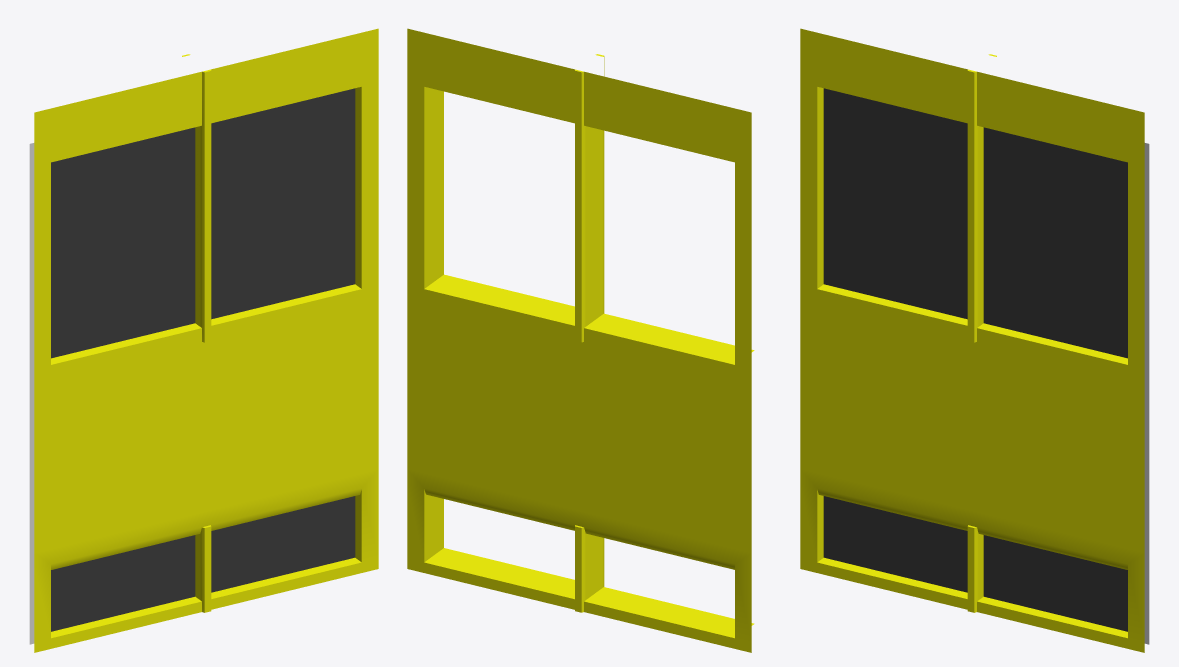
The model's file is metal-window-half.glb.
The picture shows the model from 3 angles, left to right: view 1: azimuth 30°, elevation 25°; view 2: azimuth 150°, elevation 25°; view 3: azimuth 330°, elevation 25°; orthographic projection.
Visible parts, largest first — view 1: Metal_Window_Half; view 2: Metal_Window_Half; view 3: Metal_Window_Half.
Part boxes in pixels (<box>): Metal_Window_Half: <box>29,28,378,652</box>; Metal_Window_Half: <box>407,28,754,652</box>; Metal_Window_Half: <box>800,28,1149,652</box>.
Size of the model in its own units: 2 by 3 by 0.2286.
Materials: 3 (1 with a texture image).
